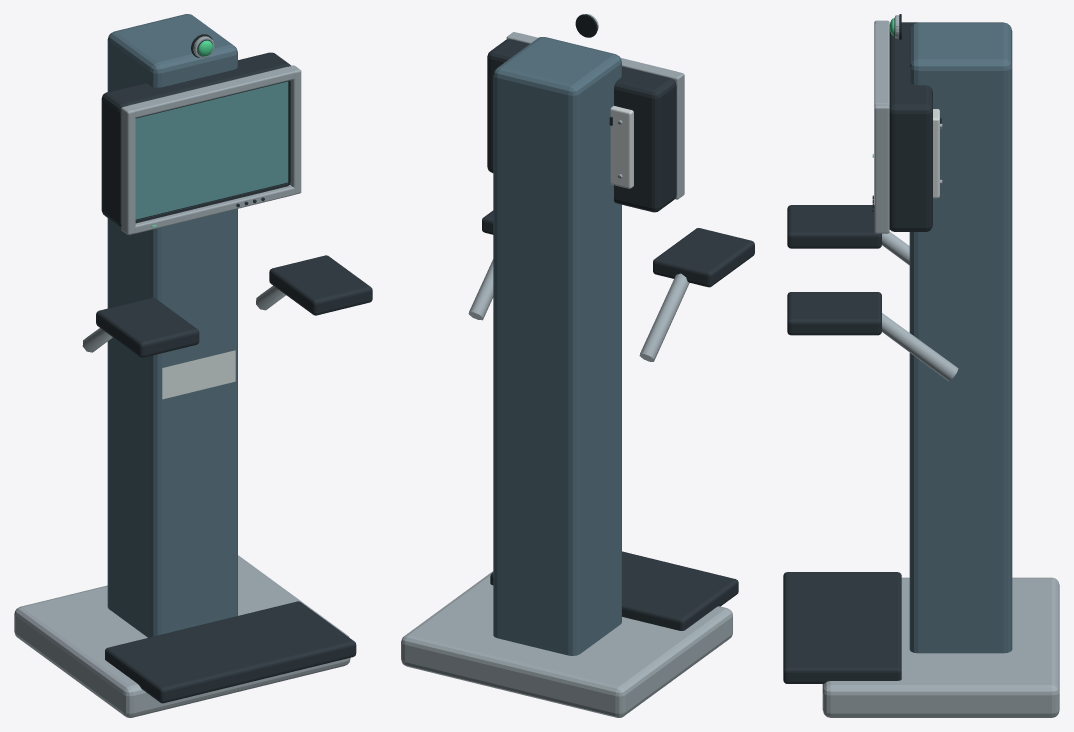
Rendered from OD_DeconExitCheck.fbx.
3 renders of one model, left to right at view 1: azimuth 30°, elevation 25°; view 2: azimuth 150°, elevation 25°; view 3: azimuth 270°, elevation 25°, orthographic. The views are drawn at different scales.
Parts seen in each view (by area): view 1: OD_DeconExitCheck; view 2: OD_DeconExitCheck; view 3: OD_DeconExitCheck.
Part boxes in pixels (x1,y1,x2,y2): OD_DeconExitCheck: [14, 14, 372, 717]; OD_DeconExitCheck: [401, 14, 754, 717]; OD_DeconExitCheck: [783, 14, 1059, 717].
Size of the model in its own units: 70 by 181 by 70.
